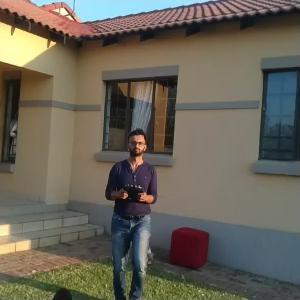follow: (105, 125, 167, 298)
